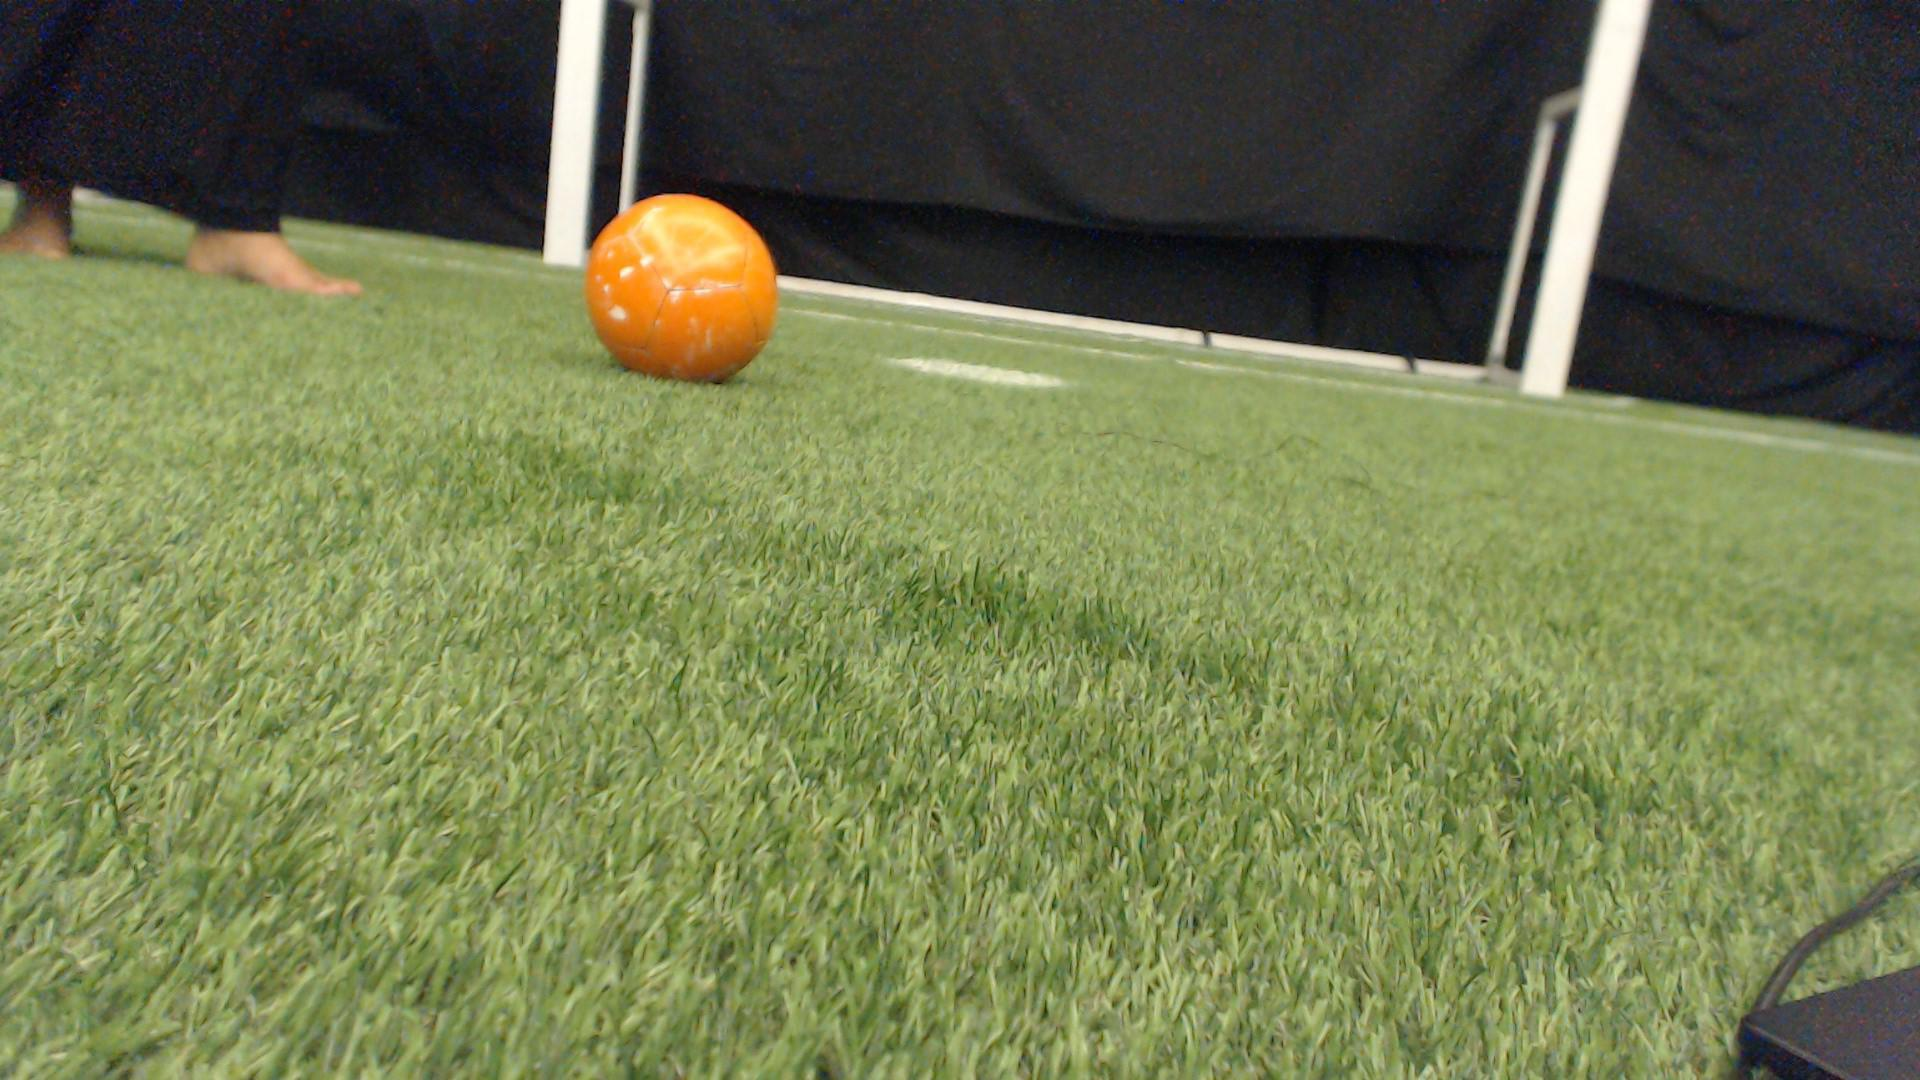bola: (578, 189, 783, 389)
